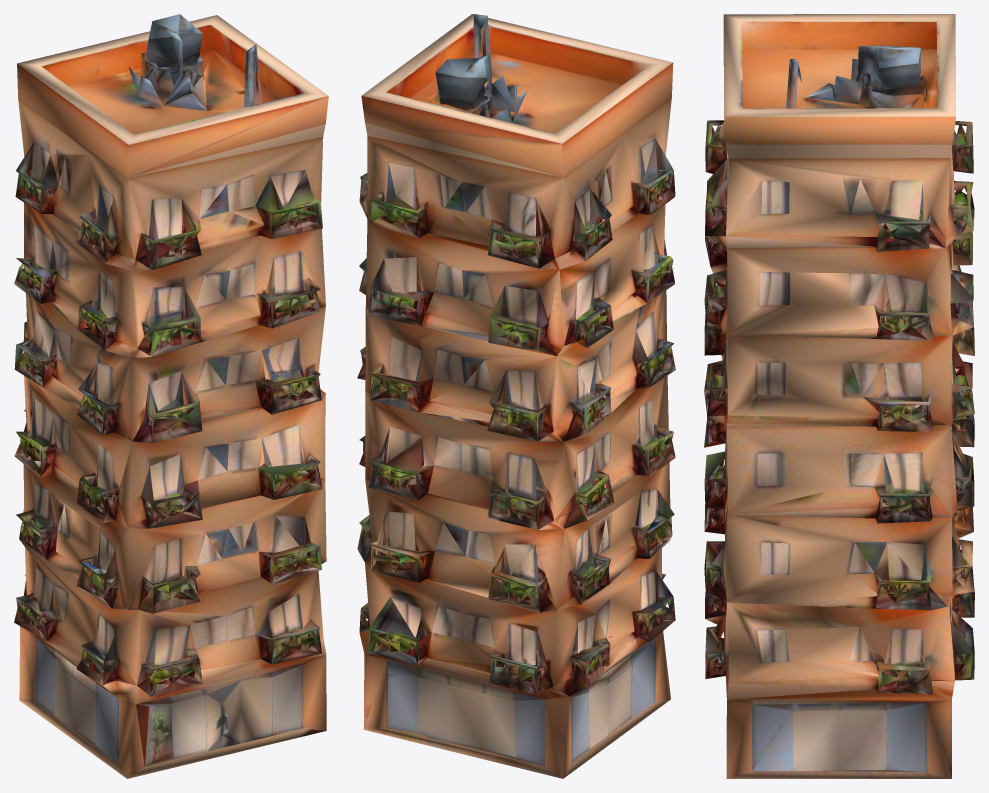
File: menara-1.glb
3 renders of one model, left to right at view 1: azimuth 30°, elevation 25°; view 2: azimuth 150°, elevation 25°; view 3: azimuth 270°, elevation 25°, orthographic. The views are drawn at different scales.
Parts seen in each view (by area): view 1: node_0; view 2: node_0; view 3: node_0.
Boxes of the visible parts, box(x1,y1,x2,y2) form: node_0: box(14, 14, 328, 778); node_0: box(357, 14, 675, 778); node_0: box(704, 14, 974, 778).
Bounding box in the file's own units: 0.3979 × 1.11 × 0.388.
1 material, 1 textured.
